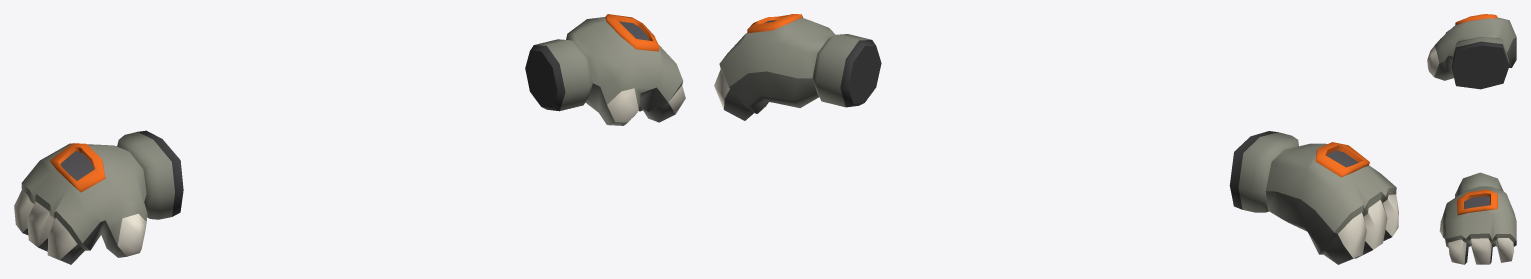
Rendered from Glove_3.fbx.
The picture shows the model from 3 angles, left to right: view 1: azimuth 30°, elevation 25°; view 2: azimuth 150°, elevation 25°; view 3: azimuth 270°, elevation 25°; orthographic projection. The views are drawn at different scales.
Parts seen in each view (by area): view 1: Glove_3; view 2: Glove_3; view 3: Glove_3.
Boxes of the visible parts, <box> form: Glove_3: <box>14,14,685,264</box>; Glove_3: <box>714,14,1398,264</box>; Glove_3: <box>1427,14,1516,264</box>.
Bounding box in the file's own units: 137 × 20.03 × 24.7.
